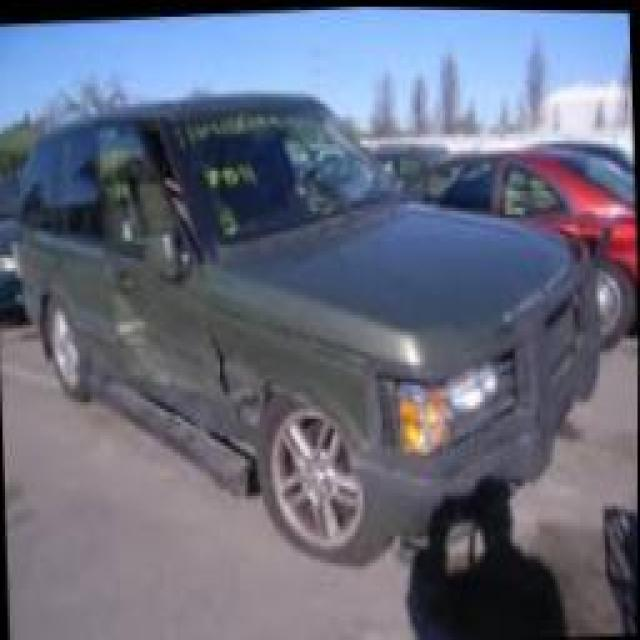Door: (103, 276, 184, 382)
Fender: (216, 330, 279, 425)
